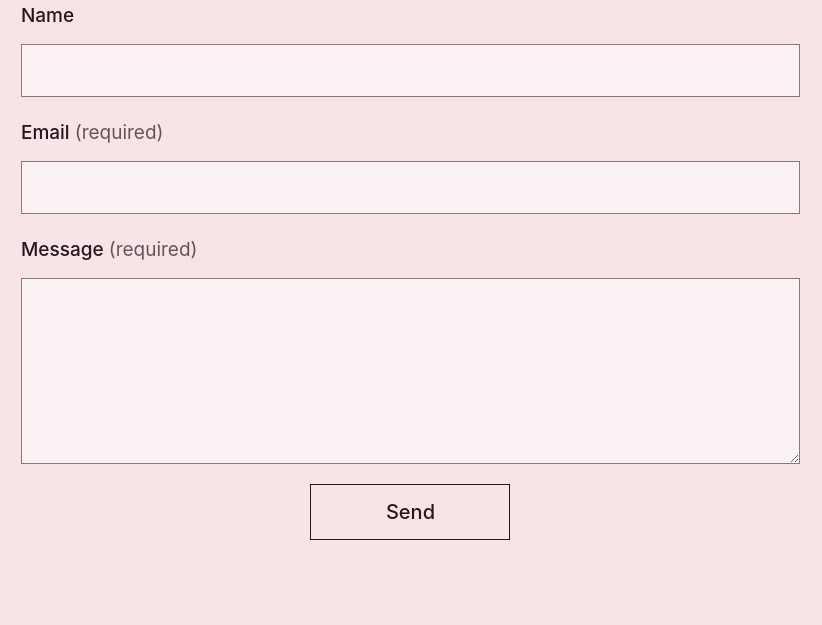
Test: ContactForm › shows the server's field errors and focuses the first invalid field
This screenshot has width=822, height=625.
Later steps or results of the test are not shown.
Type "Ada Lovelace" into the field labelled "Name" at (410, 71), box [21,44,800,97]
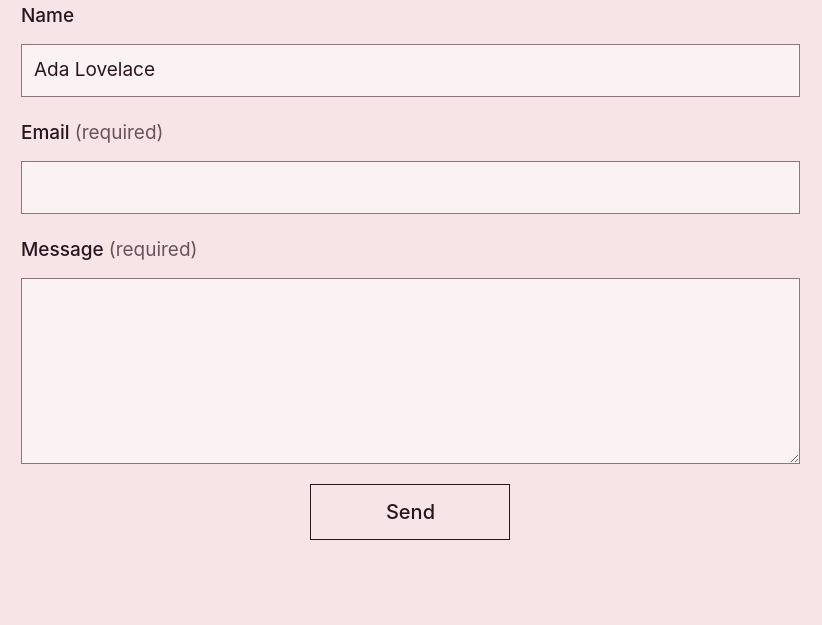
Type "ada@example.com" into the field labelled "Email (required)" at (410, 188), box [21,161,800,214]
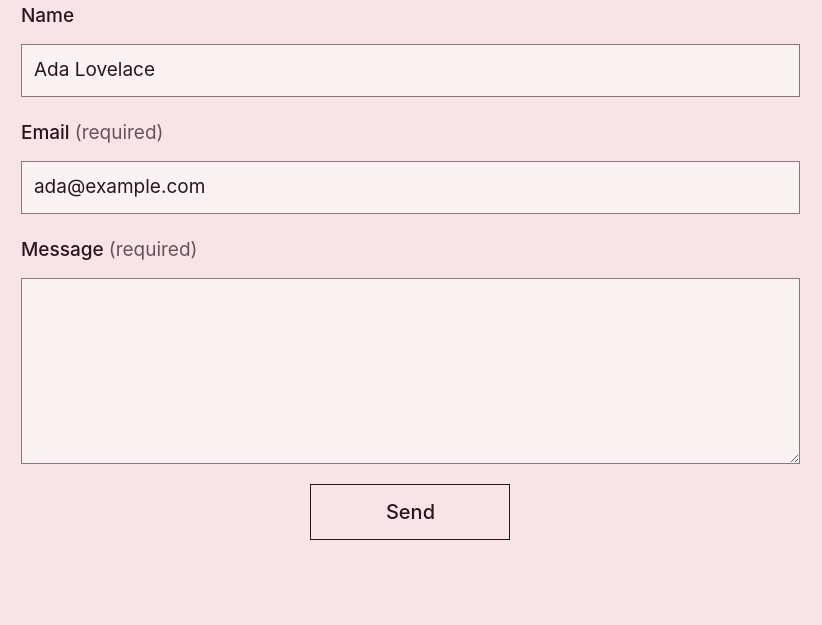
Type "Hello Rachel" into the text box labelled "Message (required)" at (410, 371), box [21,278,800,464]
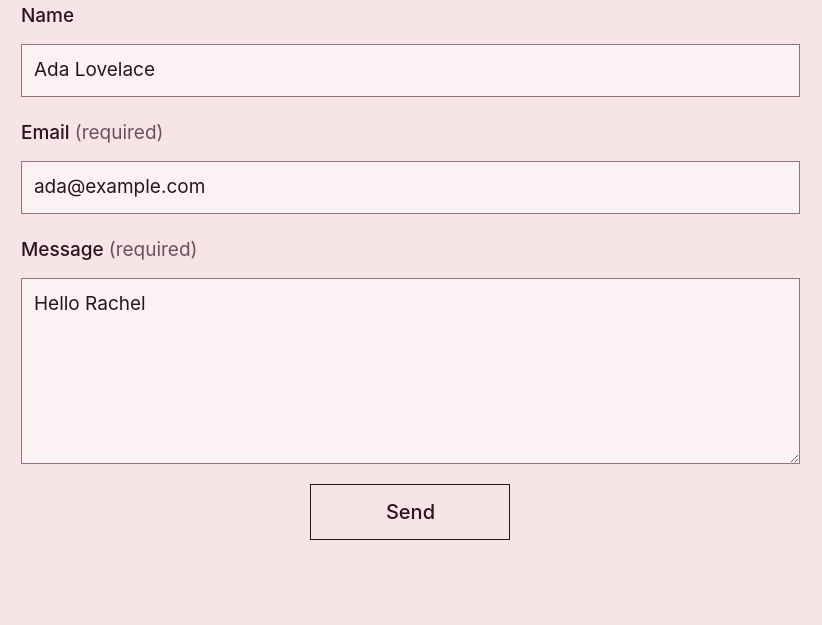
Click the button "Send" at (410, 512), box [310,484,510,540]
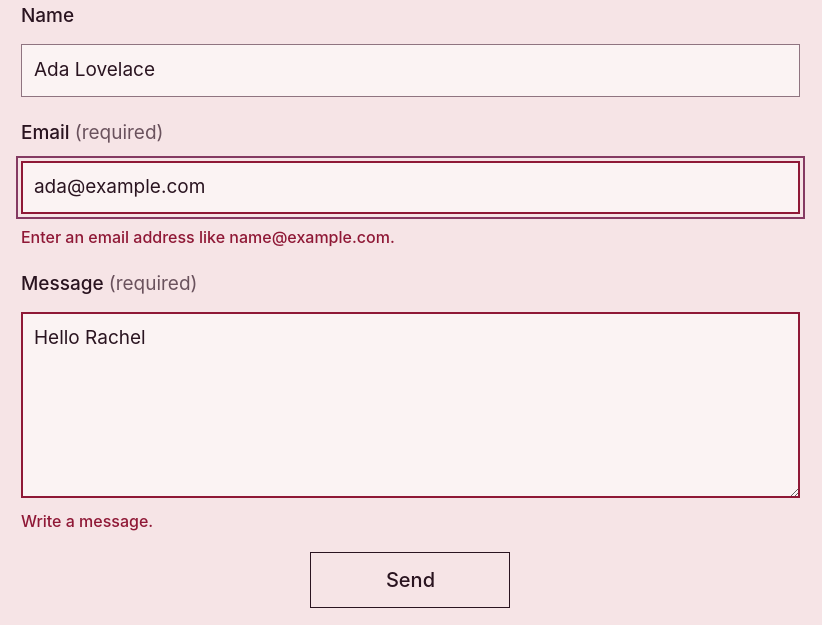
Check: the button "Send" is shown, box [310,552,510,608]
Check: the text box labelled "Message (required)" is marked as invalid, box [21,312,800,498]
Check: the text box labelled "Message (required)" has attribute aria-describedby="contact-message-error", box [21,312,800,498]
